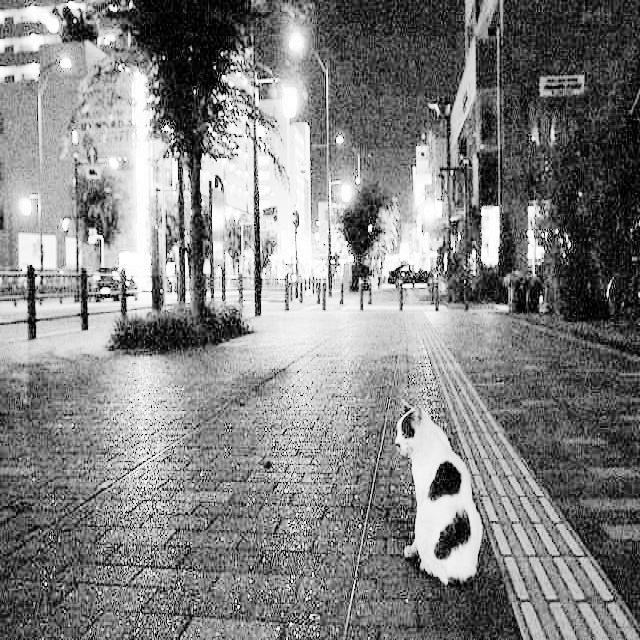Cat: (392, 395, 482, 579)
